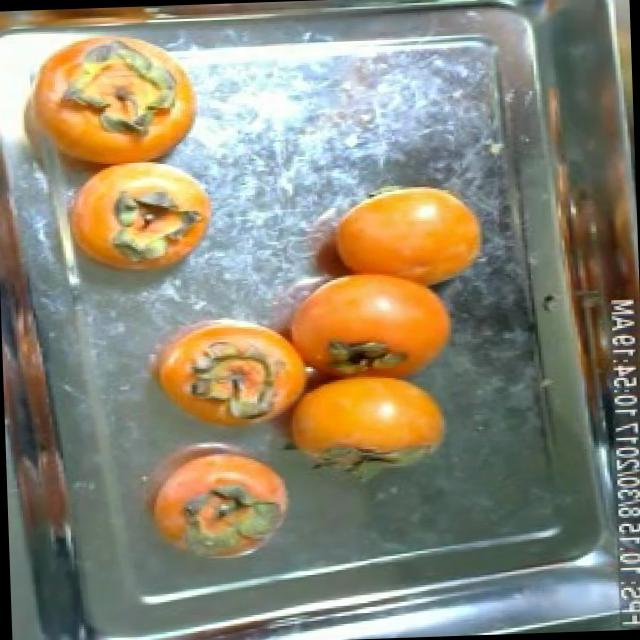Fruit: (125, 431, 304, 571), (316, 170, 498, 302), (277, 354, 459, 479), (100, 152, 224, 272)
